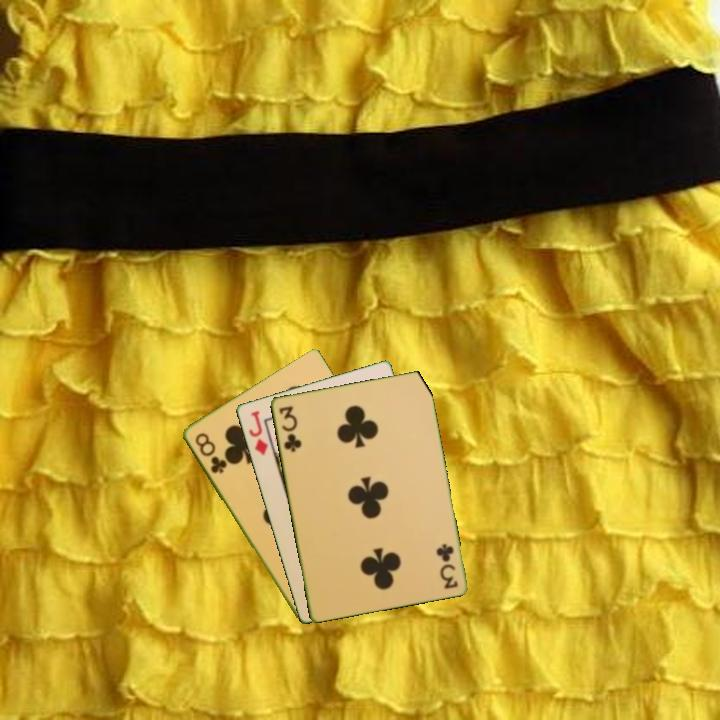3c: (275, 402, 304, 455), (434, 540, 460, 592)
8c: (191, 429, 230, 476)
Jd: (245, 407, 270, 458)
